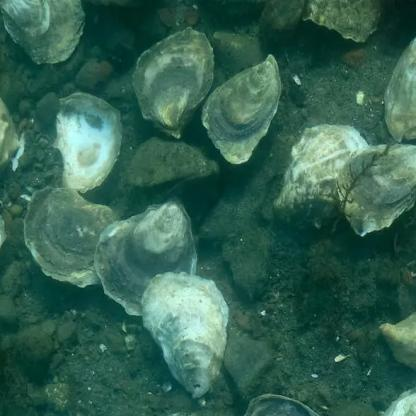Oyster- Indeterminate: (127, 136, 217, 195)
Oyster-Closed: (94, 196, 198, 316), (141, 273, 229, 396), (275, 124, 372, 227), (22, 188, 118, 287), (133, 29, 215, 138), (203, 55, 282, 165), (337, 144, 416, 238), (303, 0, 385, 42), (385, 36, 416, 140), (381, 311, 416, 370)
